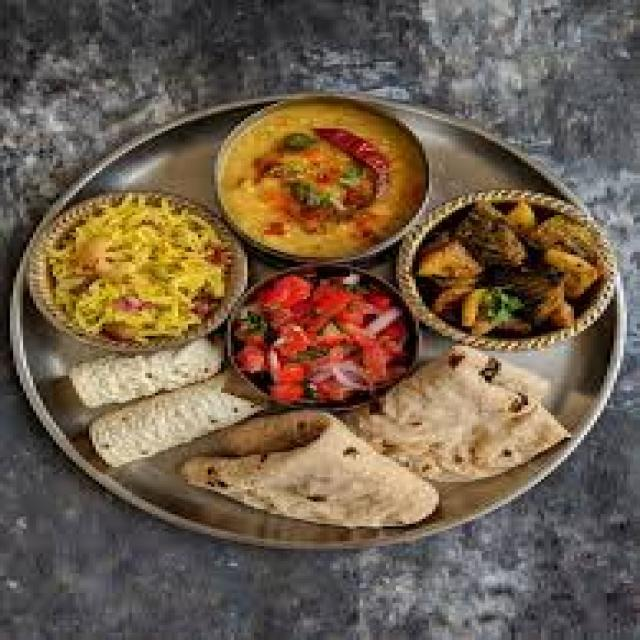dal: (227, 98, 411, 251)
papad: (57, 345, 261, 461)
rice: (22, 189, 237, 349)
roti: (216, 362, 570, 535)
veg-fry: (419, 203, 605, 337)
